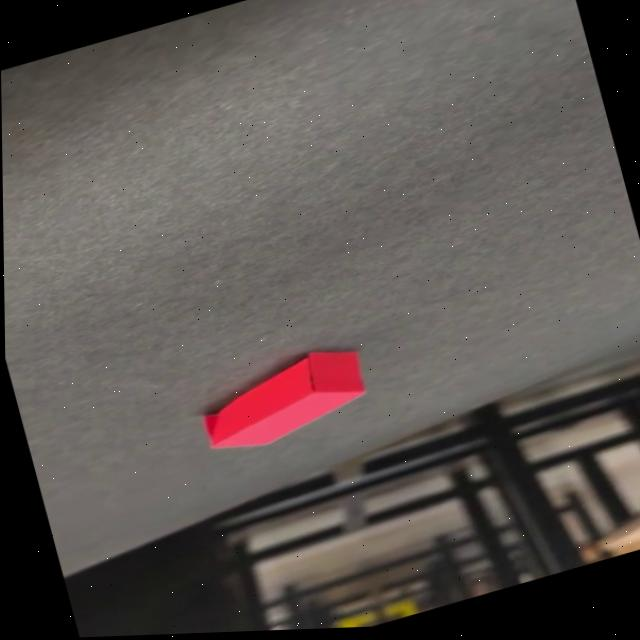red block: (192, 337, 378, 463)
